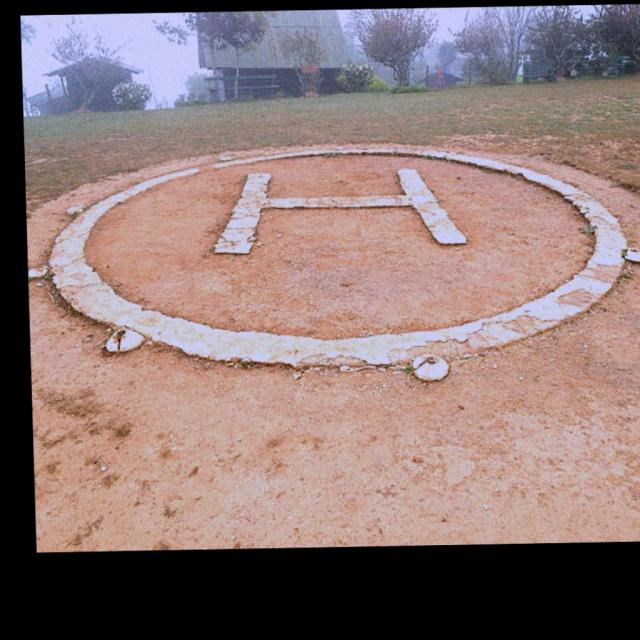helipad: (47, 144, 632, 370)
